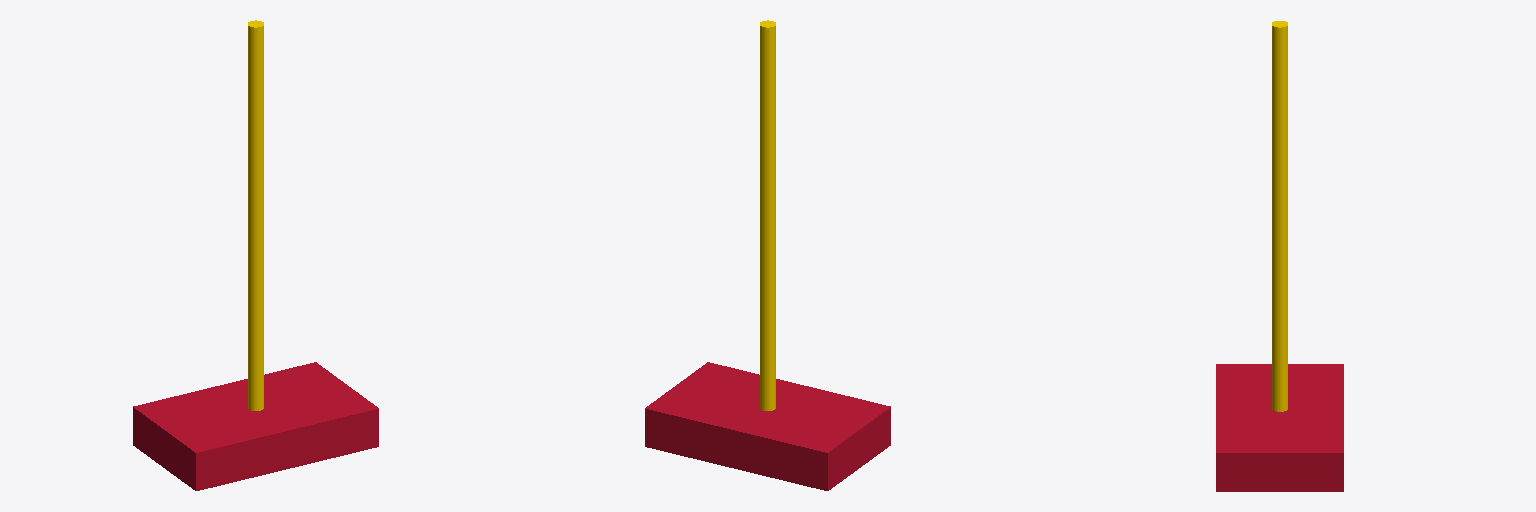
The robot description file, URDF, robot "cart_pole":
<?xml version="1.0"?>
<robot name="cart_pole">
  <!-- ros_control plugin -->
  <gazebo>
    <plugin name="gazebo_ros_control" filename="libgazebo_ros_control.so">
      <robotNamespace>/cart_pole</robotNamespace>
      <robotSimType>gazebo_ros_control/DefaultRobotHWSim</robotSimType>
    </plugin>
  </gazebo>

    <material name="red">
        <color rgba="0.77 0.12 0.23 0.7"/>
    </material>

    <material name="gold">
        <color rgba="1 0.843 0 1"/>
    </material>


  <link name="base_link">
  </link>
                <!-- * * * Link Definitions * * * -->

  <joint name="dummy_joint" type="fixed">
    <parent link="base_link"/>
    <child link="dummy_link"/>
    <origin xyz="0 0 0.05"/>
  </joint>

<link name="dummy_link">
    
    <inertial>
      <mass value="0.0001"/>
      <origin xyz="0 0 0"/>
      <inertia ixx="0.00001" ixy="0" ixz="0" iyy="0.00001" iyz="0" izz="0.00001"/>
    </inertial>

    <collision>
        <origin xyz="0 0 0" rpy="0 0 0"/>
        <geometry>
            <box size="0.001 0.001 0.001"/>
        </geometry>
    </collision>  

    <visual>
      <origin xyz="0 0 0" rpy="0 0 0" />
      <geometry>
        <box size="0.001 0.001 0.001"/>
      </geometry>
      <material name="red"/>
    </visual>
  
  </link>

    <gazebo reference="dummy_link">
    <kp>100000.0</kp>
    <kd>100000.0</kd>
    <mu1>10.0</mu1>
    <mu2>10.0</mu2>
    <material>Gazebo/Grey</material>
    </gazebo>

  <joint name="cart_joint" type="prismatic">
    <parent link="base_link"/>
    <child link="cart_link"/>
    <origin xyz="0 0 0.05"/>
    <axis xyz="1 0 0"/>
    <limit lower="-5" upper="5" effort="10" velocity="1"/>
  </joint>

<link name="cart_link">
    
    <inertial>
      <mass value="10"/>
      <origin xyz="0 0 0"/>
      <inertia ixx="0.08333" ixy="0" ixz="0" iyy="0.21667" iyz="0" izz="0.2833"/>
    </inertial>

    <collision>
        <origin xyz="0 0 0" rpy="0 0 0"/>
        <geometry>
            <box size="0.5 0.3 0.1"/>
        </geometry>
    </collision>  

    <visual>
      <origin xyz="0 0 0" rpy="0 0 0" />
      <geometry>
        <box size="0.5 0.3 0.1"/>
      </geometry>
      <material name="red"/>
    </visual>
  
  </link>

    <gazebo reference="cart_link">
    <kp>100000.0</kp>
    <kd>100000.0</kd>
    <mu1>10.0</mu1>
    <mu2>10.0</mu2>
    <material>Gazebo/Grey</material>
    </gazebo>

  <joint name="pole_joint" type="continuous">
    <parent link="cart_link"/>
    <child link="pole_link"/>
    <origin xyz="0 0 0.05" rpy="0 0 0"/>
    <axis xyz="0 1 0"/>
    <dynamics damping="0.05"/>
  </joint>

  <link name="pole_link">
    
    <inertial>
      <mass value="2"/>
      <origin xyz="0 0 0.5" rpy="0 0 0" />
      <inertia ixx="0.02" ixy="0" ixz="0" iyy="0.6667" iyz="0" izz="0.02"/>
    </inertial>

     <!-- <collision>
        <origin xyz="0 0 0.5" rpy="0 0 0"/>
        <geometry>
            <cylinder radius="0.019" length="0.9"/>
        </geometry>
    </collision>    -->

    <visual>
      <origin xyz="0 0 0.5" rpy="0 0 0" />
      <geometry>
        <cylinder radius="0.02" length="1"/>
      </geometry>
      <material name="gold"/>
    </visual>
  
  </link>

    <gazebo reference="pole_link">
    <kp>100000.0</kp>
    <kd>100000.0</kd>
    <mu1>10.0</mu1>
    <mu2>10.0</mu2>
    <material>Gazebo/Blue</material>
    </gazebo>

  <transmission name="tran1">
    <type>transmission_interface/SimpleTransmission</type>
    <joint name="cart_joint">
      <hardwareInterface>hardware_interface/EffortJointInterface</hardwareInterface>
    </joint>
    
    <actuator name="motor1">
      <hardwareInterface>hardware_interface/EffortJointInterface</hardwareInterface>
      <mechanicalReduction>1</mechanicalReduction>
    </actuator>
  </transmission>


</robot>

--- Facts derived from the render (not from the file) ---
Views: 3 orthographic renders of the robot side by side, from view 1: azimuth 30°, elevation 25°; view 2: azimuth 150°, elevation 25°; view 3: azimuth 270°, elevation 25°.
Model cart_pole with 4 links and 3 joints (1 continuous, 1 prismatic, 1 fixed), rooted at base_link, posed every joint at zero.
Links seen in each view (by area): view 1: cart_link, pole_link; view 2: cart_link, pole_link; view 3: cart_link, pole_link.
Link boxes in pixels (box(x1,y1,x2,y2)): cart_link: box(133, 362, 378, 490); pole_link: box(248, 20, 263, 410); cart_link: box(645, 362, 890, 490); pole_link: box(760, 20, 775, 410); cart_link: box(1216, 364, 1343, 491); pole_link: box(1272, 21, 1287, 411).
Bounding box of the posed robot: 0.5 × 0.3 × 1.1 m (x, y, z).
Geometry: primitives only (box / cylinder / sphere), no mesh files.